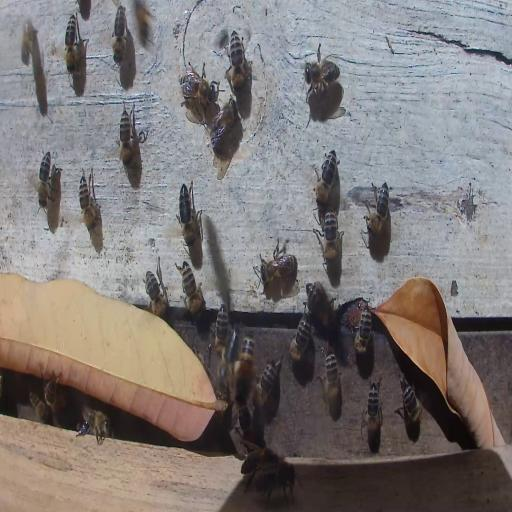nonpollenbee: (207, 96, 241, 152), (258, 246, 298, 290), (305, 281, 338, 333), (177, 178, 202, 246), (252, 459, 296, 497), (302, 54, 341, 96), (224, 29, 248, 97), (78, 165, 101, 235), (181, 67, 217, 109), (313, 149, 339, 207), (365, 180, 391, 236), (178, 259, 203, 316), (240, 444, 273, 487), (322, 347, 344, 411), (318, 209, 342, 267), (398, 376, 423, 431), (144, 259, 167, 315), (257, 359, 281, 409), (364, 374, 383, 437), (78, 409, 112, 443), (118, 106, 136, 168), (288, 316, 312, 362), (354, 305, 374, 359), (112, 4, 129, 66), (230, 404, 252, 448), (65, 14, 80, 74), (214, 306, 231, 353), (134, 2, 153, 44), (38, 150, 51, 208), (29, 391, 50, 422), (21, 21, 34, 68), (44, 379, 57, 411)
pollenbee: (233, 332, 255, 400)
